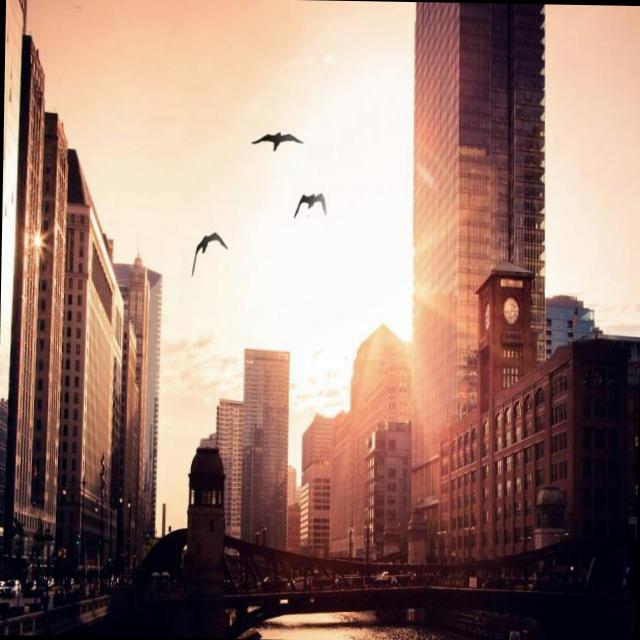bird: (188, 229, 225, 274), (251, 122, 299, 156), (293, 190, 328, 220)
